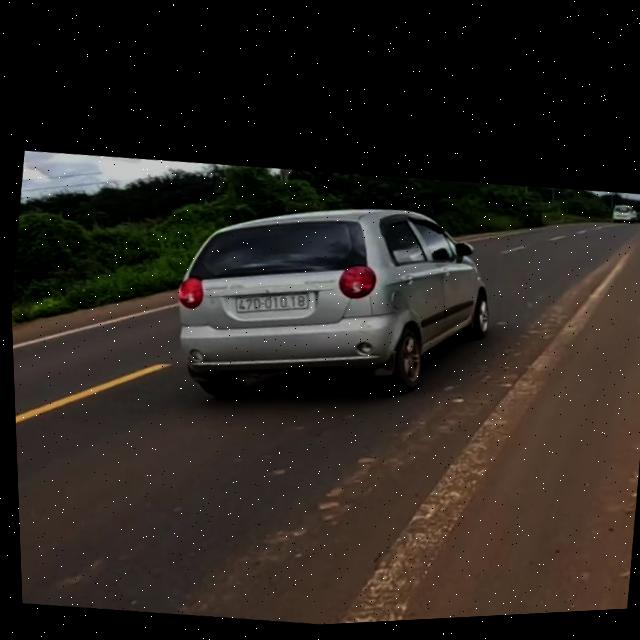car: (160, 176, 514, 439)
plate: (228, 286, 314, 325)
